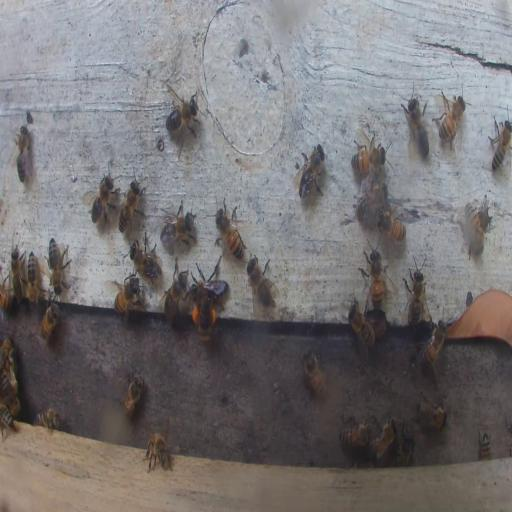nonpollenbee: (164, 88, 200, 145), (86, 166, 120, 226), (402, 88, 430, 158), (403, 252, 428, 330), (292, 142, 326, 198), (216, 200, 246, 262), (434, 91, 466, 148), (246, 254, 278, 308), (116, 176, 144, 234), (346, 297, 376, 351), (160, 203, 195, 247), (163, 262, 189, 320), (189, 267, 228, 302), (130, 236, 161, 280), (354, 176, 386, 218), (47, 238, 71, 294), (420, 320, 446, 371), (467, 200, 491, 255), (301, 347, 326, 399), (369, 417, 397, 462), (489, 115, 512, 169), (144, 430, 172, 474), (118, 371, 144, 418), (113, 274, 141, 317), (13, 122, 31, 184), (351, 143, 389, 171), (416, 398, 448, 431), (338, 420, 373, 450), (1, 357, 18, 413), (376, 210, 405, 241), (40, 299, 60, 341), (369, 246, 382, 310), (10, 247, 25, 301), (1, 335, 15, 390), (27, 252, 40, 304), (398, 424, 414, 466), (33, 409, 62, 430), (0, 404, 16, 437), (478, 430, 492, 460), (0, 288, 15, 310)
pollenbee: (192, 294, 216, 344)
